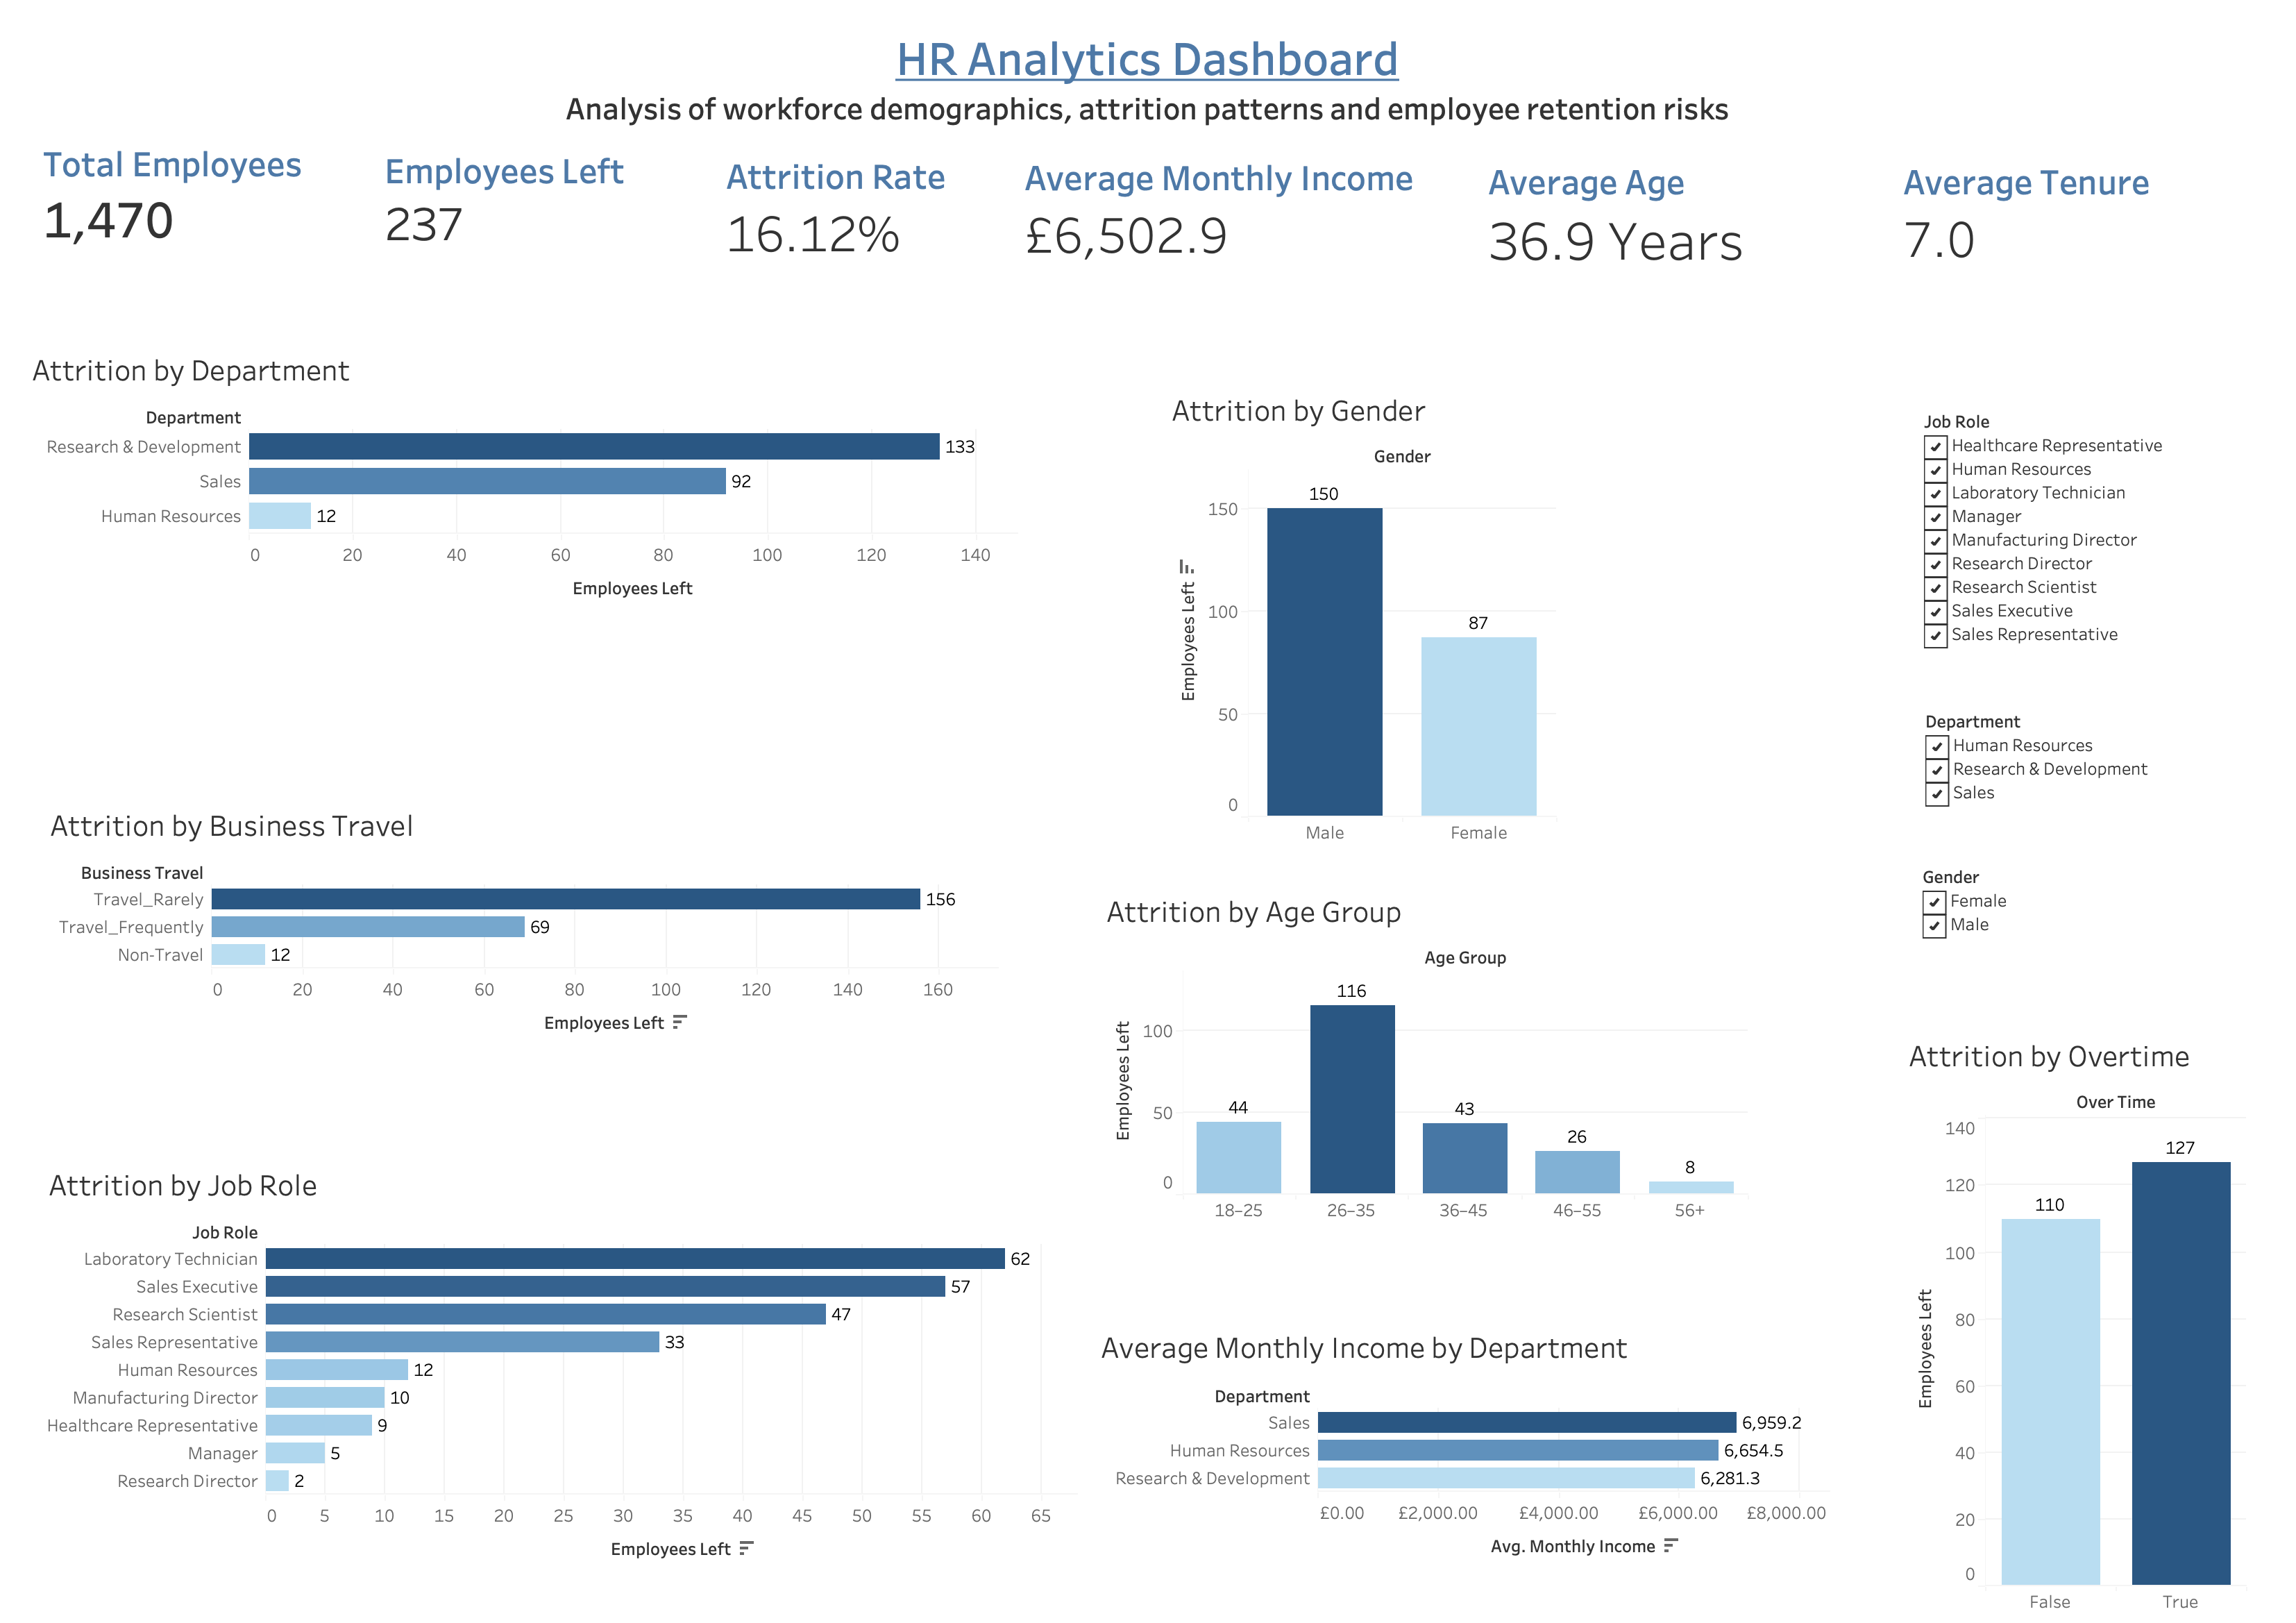

The dashboard page shown, as its layout file describes it:
{"tool":"tableau","page":{"name":"Dashboard 2","canvas":[1654,1169],"ordinal":0},"visuals":[{"type":"title","box":[8,8,1638,95]},{"type":"worksheet","title":"KPI- Total Employees","mark":"Automatic","box":[27,101,215,103]},{"type":"worksheet","title":"KPI - Employees Left","mark":"Automatic","box":[273,106,203,83]},{"type":"worksheet","title":"KPI - Attrition Rate","mark":"Automatic","box":[519,111,189,84]},{"type":"worksheet","title":"KPI - Average Income","mark":"Automatic","box":[734,111,308,87]},{"type":"worksheet","title":"KPI - Average Age","mark":"Automatic","box":[1068,114,273,89]},{"type":"worksheet","title":"KPI- Average Years at Company","mark":"Automatic","box":[1367,115,208,89]},{"type":"worksheet","title":"Attrition by Department","mark":"Bar","rows":["Department"],"cols":["Calculation_0434603743043585"],"box":[19,246,714,211]},{"type":"worksheet","title":"Attrition by Gender","mark":"Bar","rows":["Calculation_0434603743043585"],"cols":["Gender"],"box":[840,275,281,334]},{"type":"filter","title":"Attrition by Job Role","param":"[federated.1jbuzkq0xol3uq1didl610h97rsq].[none:JobRole:nk]","box":[1386,294,211,214]},{"type":"filter","title":"Income by Department","param":"[federated.1jbuzkq0xol3uq1didl610h97rsq].[none:Department:nk]","box":[1387,510,209,113]},{"type":"worksheet","title":"Attrition by Business Travel","mark":"Automatic","rows":["BusinessTravel"],"cols":["Calculation_0434603743043585"],"box":[32,574,687,184]},{"type":"filter","title":"Attrition by Gender","param":"[federated.1jbuzkq0xol3uq1didl610h97rsq].[none:Gender:nk]","box":[1385,622,211,109]},{"type":"worksheet","title":"Attrition by Age Group","mark":"Automatic","rows":["Calculation_0434603743043585"],"cols":["Calculation_0434603842076679"],"box":[793,636,466,245]},{"type":"worksheet","title":"Attrition by Overtime","mark":"Automatic","rows":["Calculation_0434603743043585"],"cols":["OverTime"],"box":[1371,740,247,423]},{"type":"worksheet","title":"Attrition by Job Role","mark":"Bar","rows":["JobRole"],"cols":["Calculation_0434603743043585"],"box":[31,833,745,326]},{"type":"worksheet","title":"Income by Department","mark":"Automatic","rows":["Department"],"cols":["MonthlyIncome"],"box":[789,950,529,183]}]}

Visuals, with their boxes in screenshot pixels (x1, y1, x2, y2), scaled from the page's 1654x1169 canvas onto the 2296x1623 screenshot:
title: [11,11,2285,143]
"KPI- Total Employees" worksheet: [37,140,336,283]
"KPI - Employees Left" worksheet: [379,147,661,262]
"KPI - Attrition Rate" worksheet: [720,154,983,271]
"KPI - Average Income" worksheet: [1019,154,1446,275]
"KPI - Average Age" worksheet: [1483,158,1862,282]
"KPI- Average Years at Company" worksheet: [1898,160,2186,283]
"Attrition by Department" worksheet (Bar marks): [26,342,1018,634]
"Attrition by Gender" worksheet (Bar marks): [1166,382,1556,846]
"Attrition by Job Role" filter: [1924,408,2217,705]
"Income by Department" filter: [1925,708,2215,865]
"Attrition by Business Travel" worksheet: [44,797,998,1052]
"Attrition by Gender" filter: [1923,864,2215,1015]
"Attrition by Age Group" worksheet: [1101,883,1748,1223]
"Attrition by Overtime" worksheet: [1903,1027,2246,1615]
"Attrition by Job Role" worksheet (Bar marks): [43,1157,1077,1609]
"Income by Department" worksheet: [1095,1319,1830,1573]
